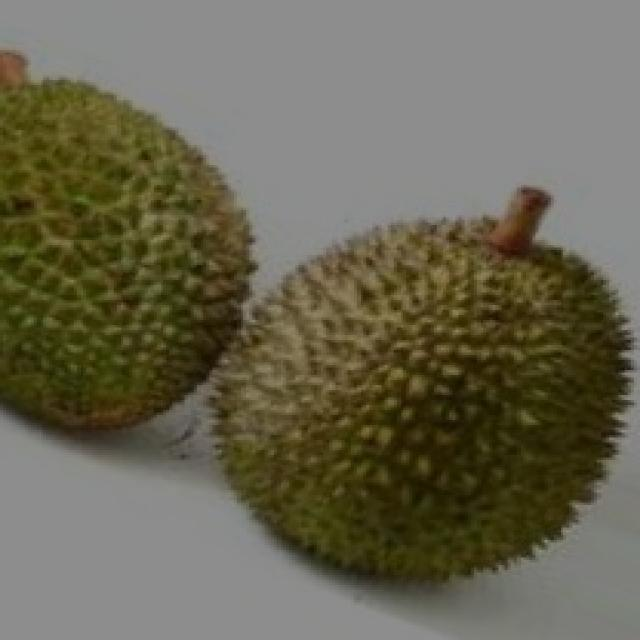fruit: (243, 198, 640, 622), (0, 55, 289, 460)
